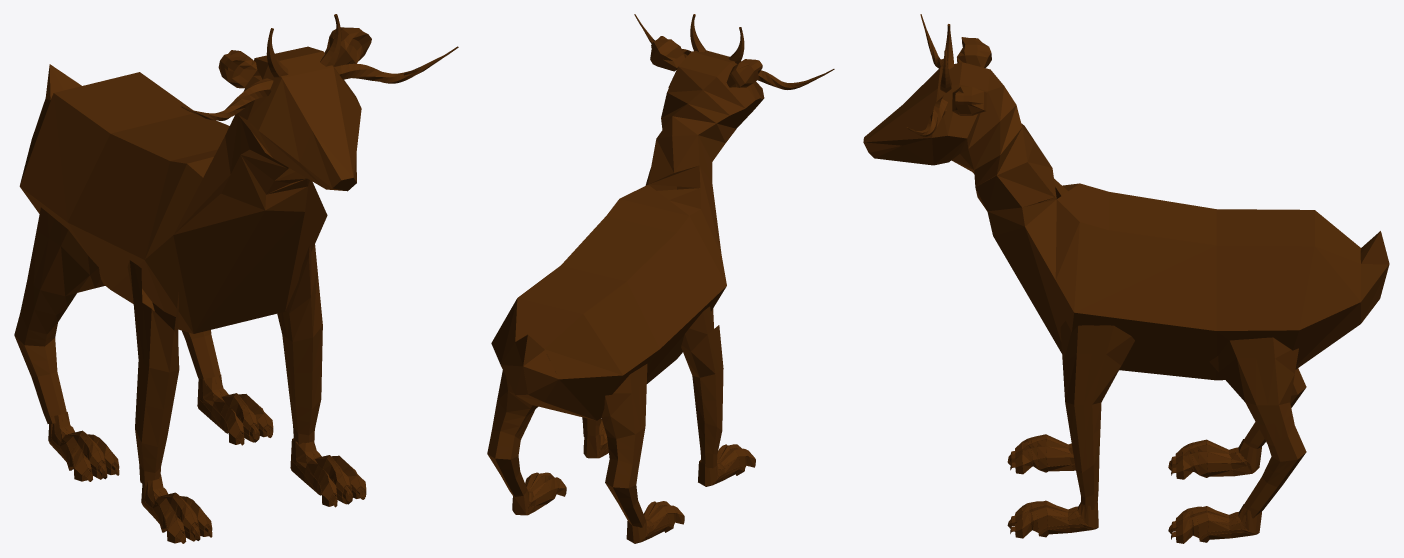
Rendered from Final_Deer 2.fbx.
The picture shows the model from 3 angles, left to right: view 1: azimuth 30°, elevation 25°; view 2: azimuth 150°, elevation 25°; view 3: azimuth 270°, elevation 25°; orthographic projection. The views are drawn at different scales.
Parts seen in each view (by area): view 1: Cube_2; view 2: Cube_2; view 3: Cube_2.
Boxes of the visible parts, bbox=[...] form: Cube_2: bbox=[14, 14, 458, 543]; Cube_2: bbox=[487, 14, 834, 543]; Cube_2: bbox=[863, 14, 1389, 543].
Bounding box in the file's own units: 174 × 333 × 340.
